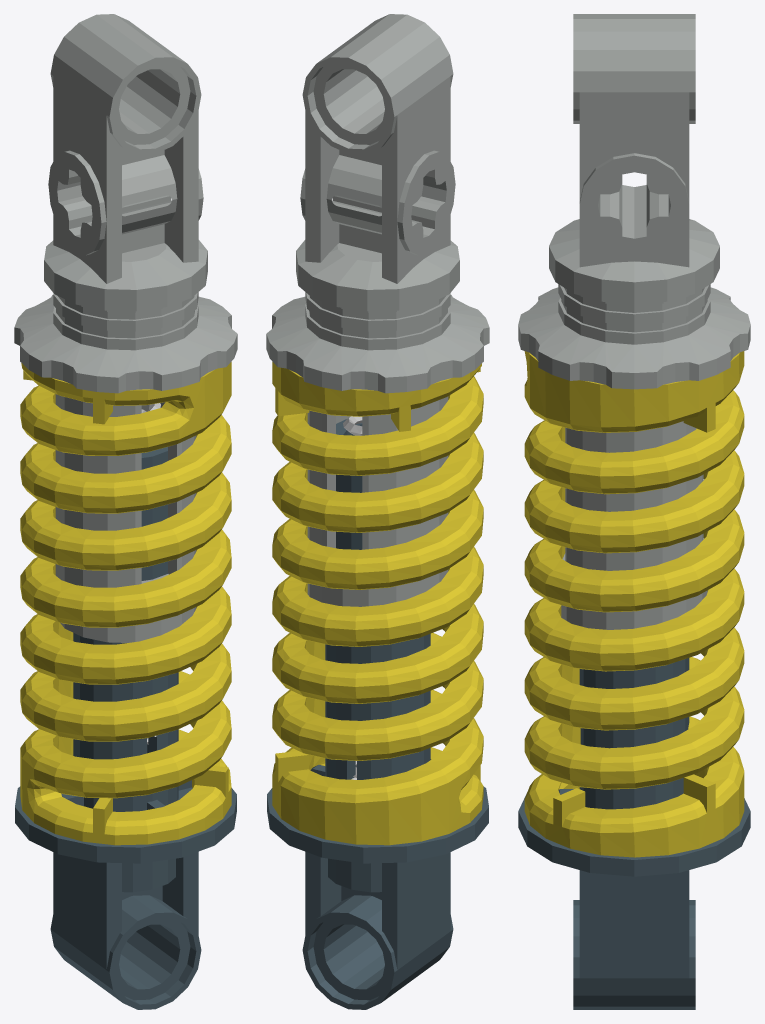
3 views of the same model, side by side, from view 1: azimuth 30°, elevation 25°; view 2: azimuth 150°, elevation 25°; view 3: azimuth 270°, elevation 25° (orthographic). The views are drawn at different scales.
Parts seen in each view (by area): view 1: world; view 2: world; view 3: world.
Boxes of the visible parts, left/top/right/bottom form: world: left=14, top=14, right=237, bottom=1009; world: left=266, top=14, right=489, bottom=1009; world: left=518, top=14, right=750, bottom=1009.
Bounding box in the file's own units: 0.0152 × 0.0712 × 0.0152.
